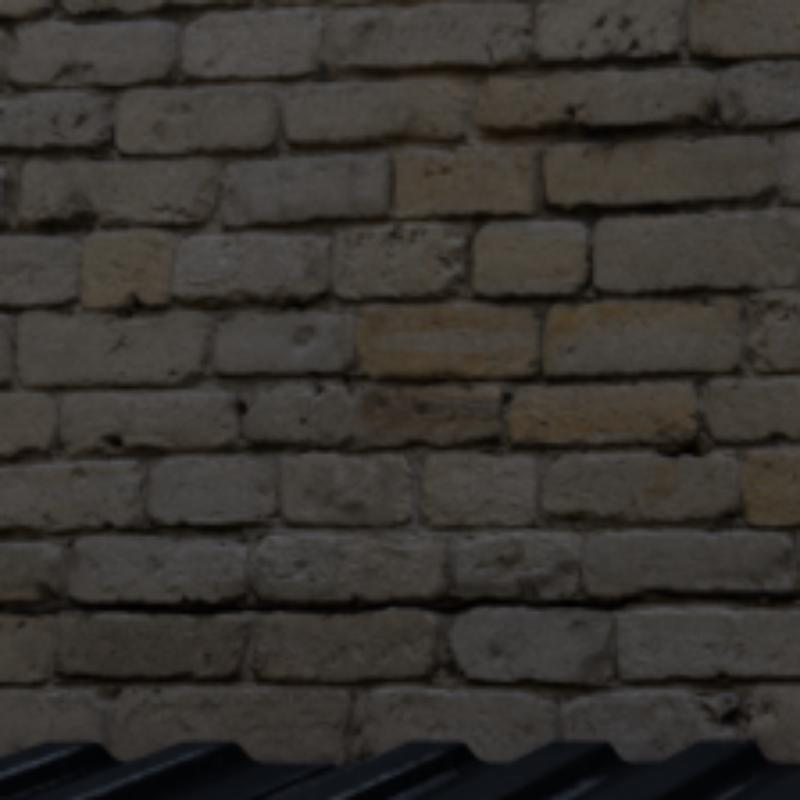crack: (471, 586, 796, 607), (46, 604, 386, 611), (411, 604, 471, 611)
